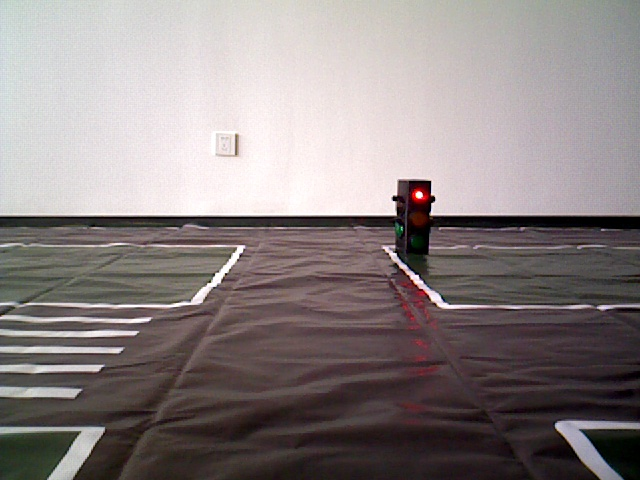red: (394, 181, 429, 255)
